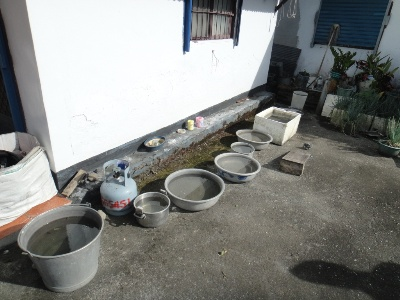bottle: (196, 116, 205, 129), (186, 119, 195, 131)
bowl: (163, 167, 226, 213), (213, 151, 262, 183), (132, 189, 170, 229), (234, 127, 274, 151)
bucket: (16, 202, 109, 294), (289, 87, 309, 115)
plate: (142, 134, 168, 153), (229, 140, 255, 158), (176, 128, 188, 135)
styrofoam: (251, 105, 301, 147)
